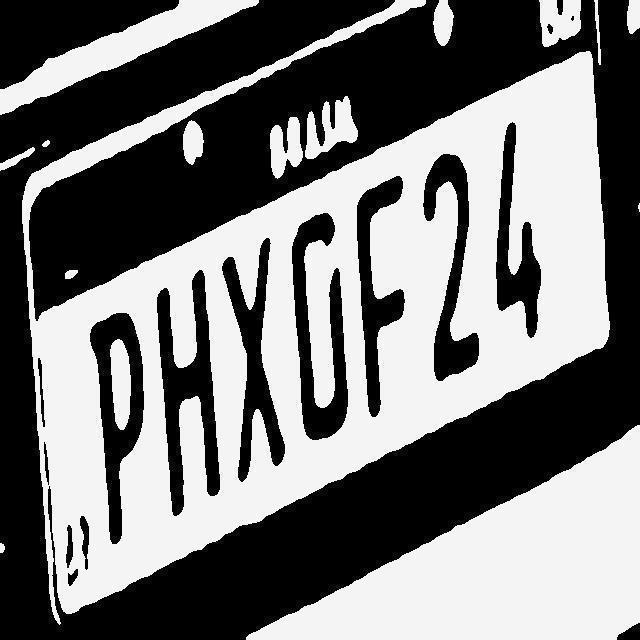0: (292, 204, 349, 441)
2: (420, 150, 486, 383)
4: (491, 118, 547, 340)
f: (354, 176, 409, 417)
h: (154, 269, 222, 522)
p: (84, 310, 146, 548)
x: (223, 234, 289, 484)
